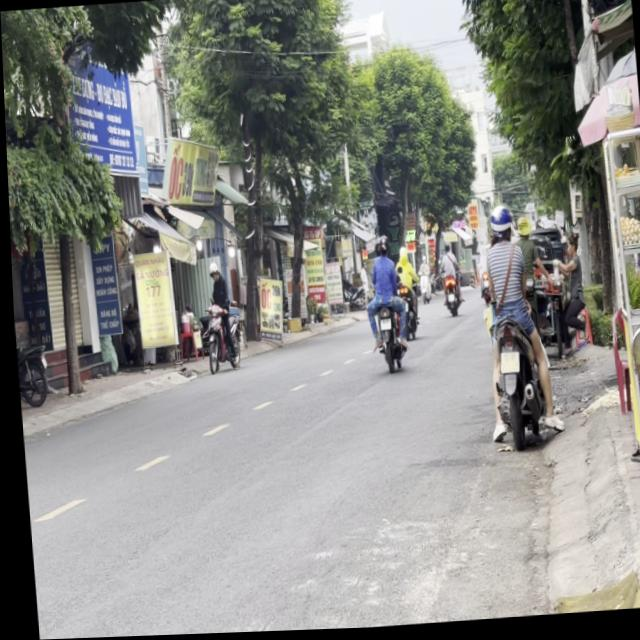helmet: (485, 207, 511, 246)
licenseplate: (468, 204, 554, 454)
nohelmet: (495, 355, 515, 376)
